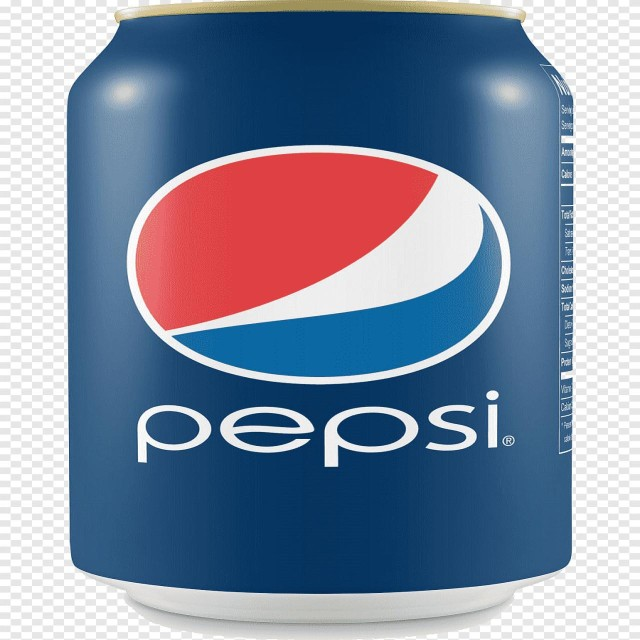pepsi: (124, 137, 522, 391)
